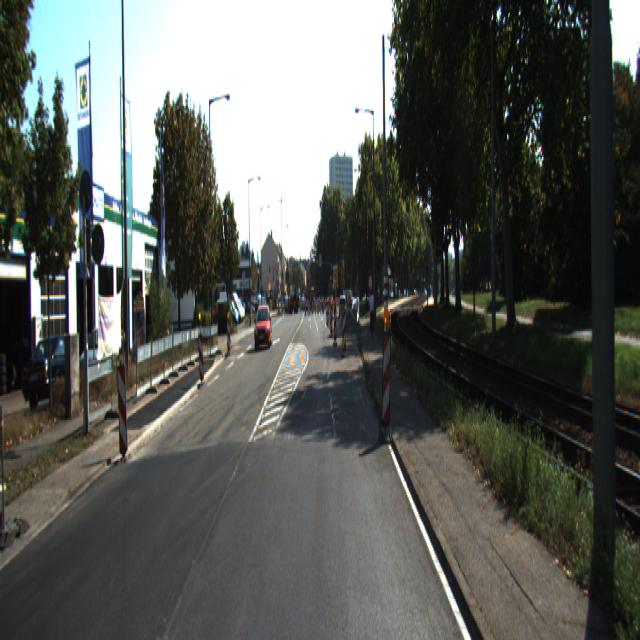Car: (254, 304, 273, 350)
